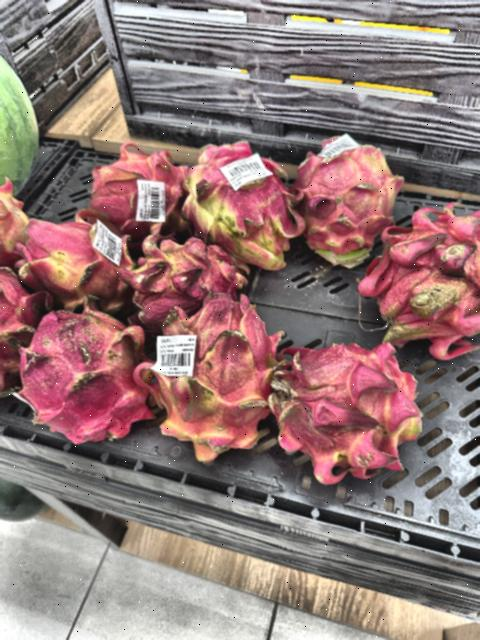buah-naga-belum-matang: (158, 297, 278, 469), (182, 146, 302, 264), (298, 130, 398, 266), (12, 215, 137, 309), (130, 231, 264, 315), (0, 181, 32, 267)
buah-naga-matang: (272, 338, 418, 482), (15, 304, 149, 442), (368, 208, 480, 356), (84, 148, 184, 232), (0, 267, 44, 389)
